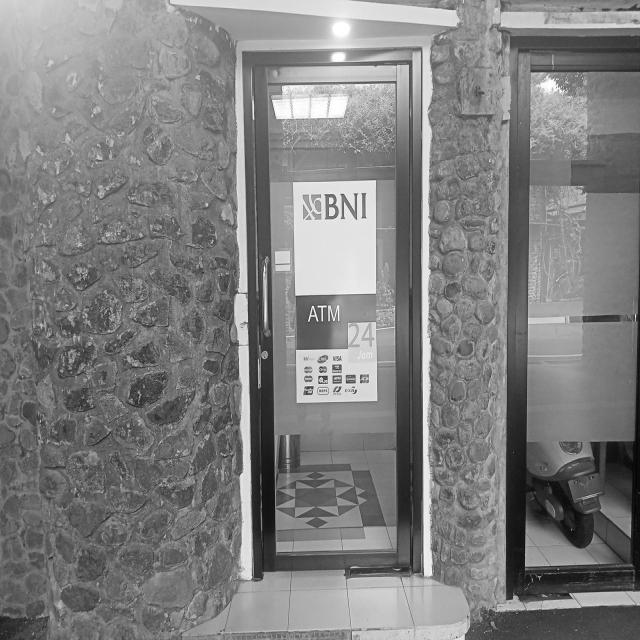door: (245, 47, 422, 573)
